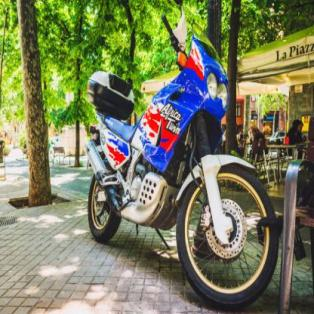Motocicleta: (79, 13, 279, 308)
